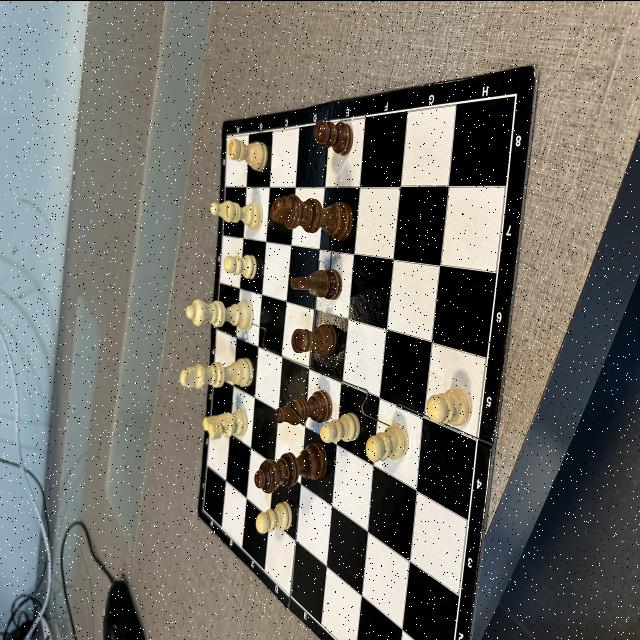Black-Bishop: (274, 390, 330, 426)
Black-King: (270, 194, 353, 240)
Black-Knight: (289, 268, 342, 300)
Black-Pawn: (312, 118, 353, 154)
Black-Queen: (254, 442, 328, 492)
Black-Rook: (290, 323, 337, 355)
White-Bishop: (210, 200, 264, 230)
White-King: (179, 357, 253, 387)
White-Knight: (202, 411, 248, 438)
White-Pawn: (428, 388, 472, 428), (365, 422, 409, 459), (320, 412, 360, 442), (255, 500, 292, 532), (224, 254, 256, 278)
White-Queen: (186, 298, 253, 330)
White-Rook: (227, 139, 268, 171)
